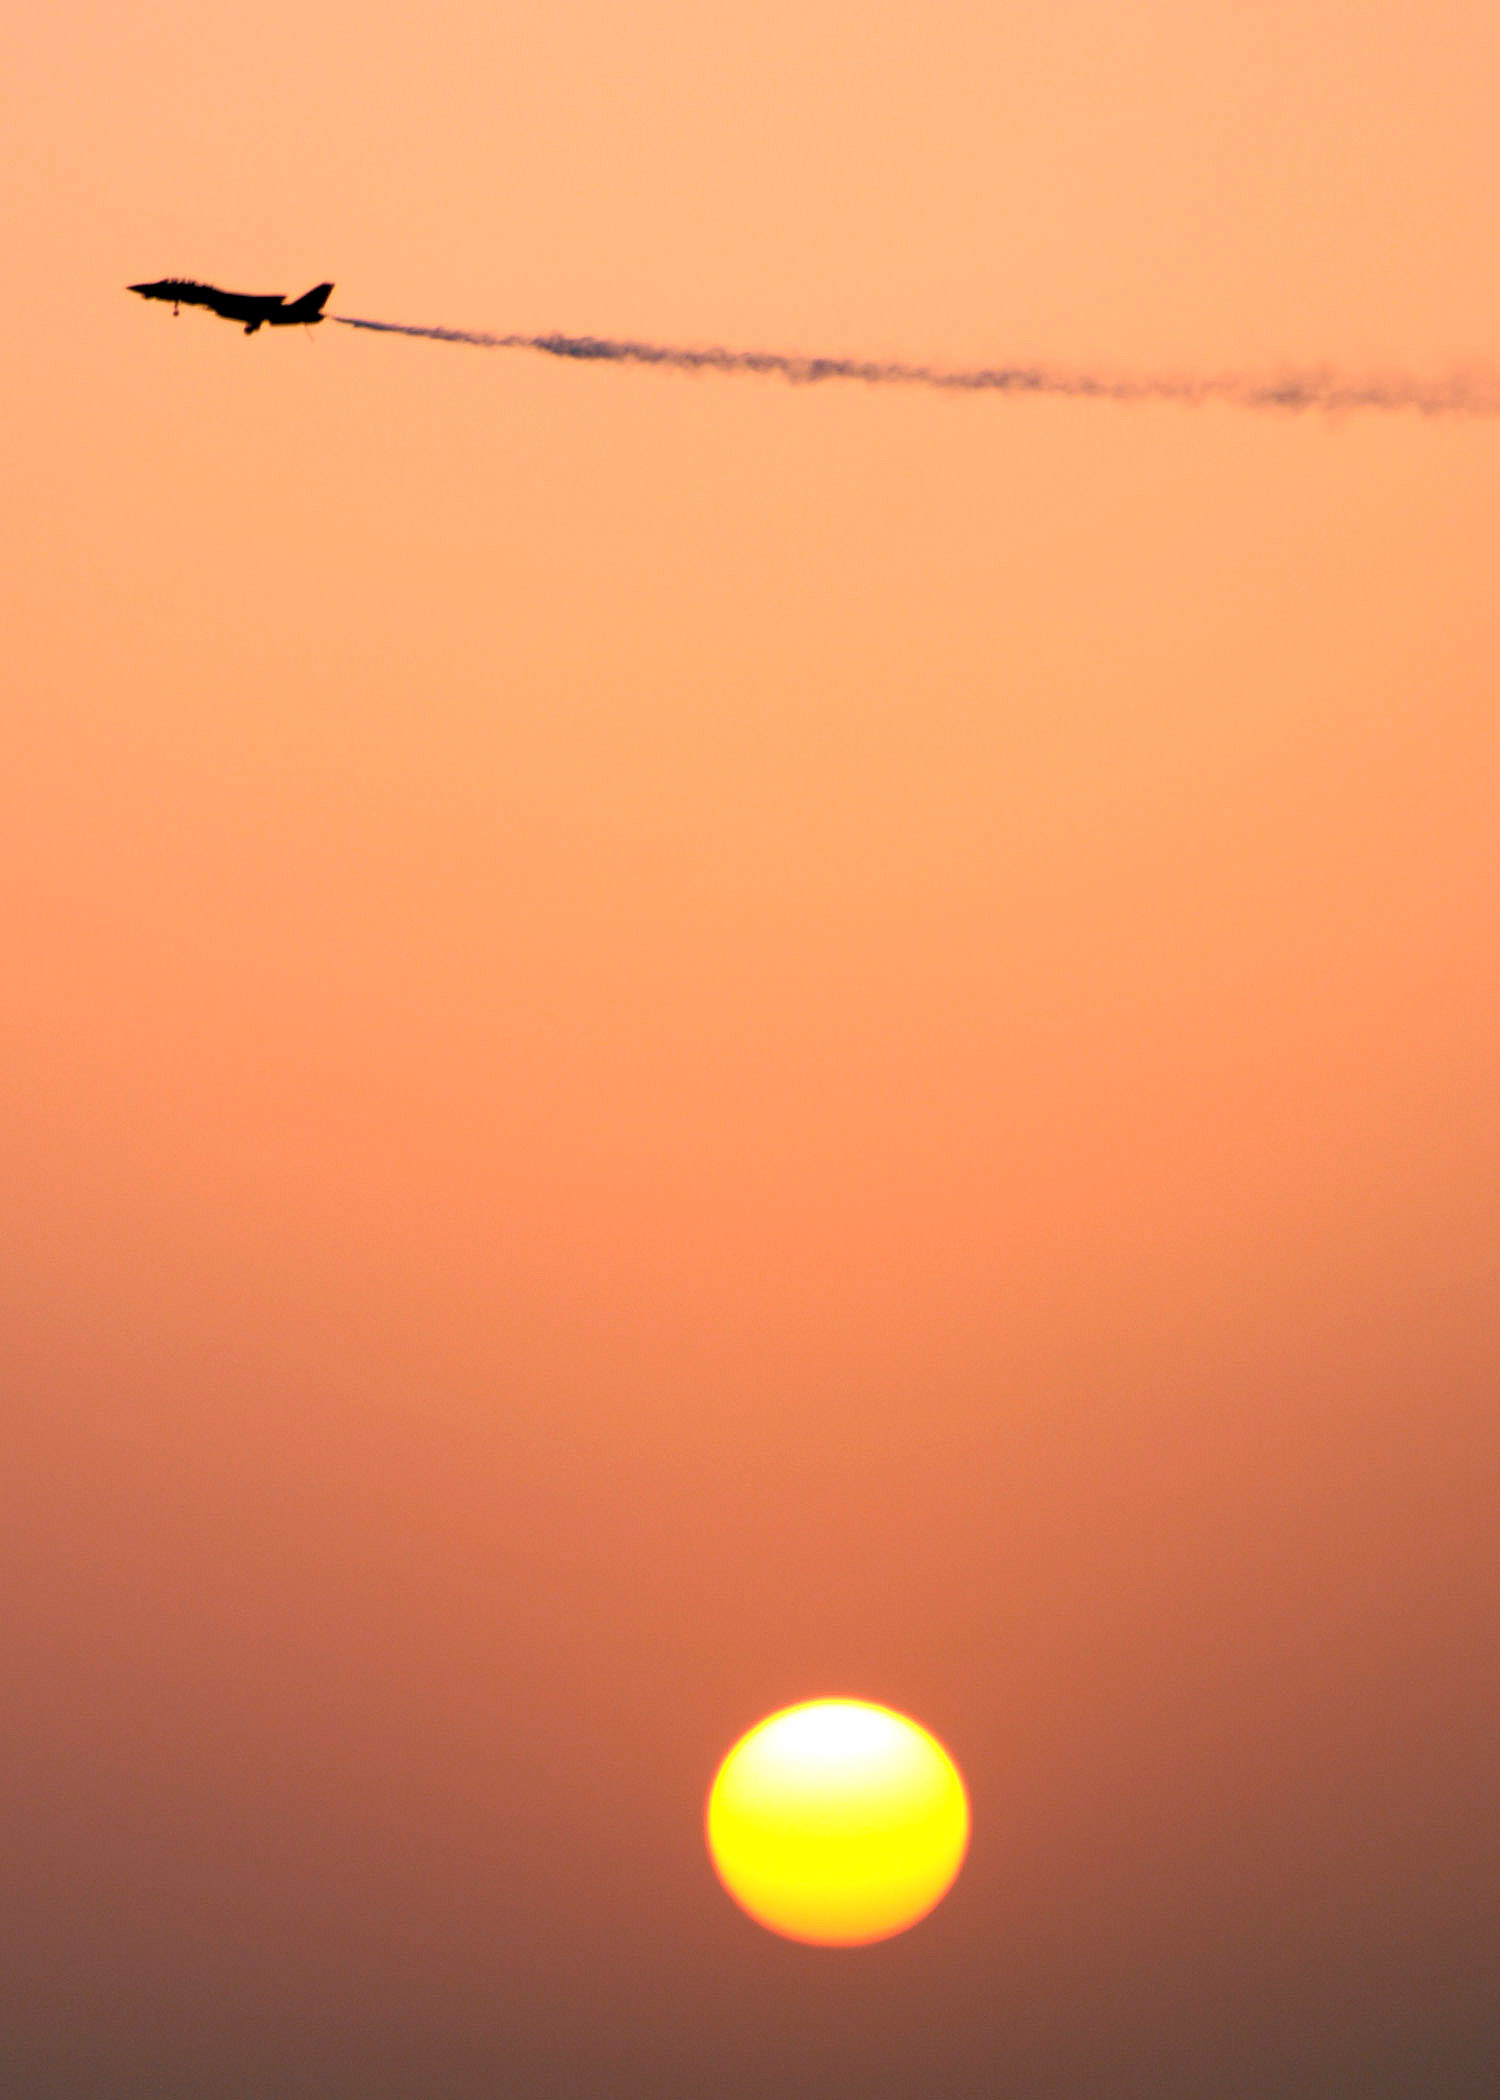F14: (123, 278, 334, 344)
